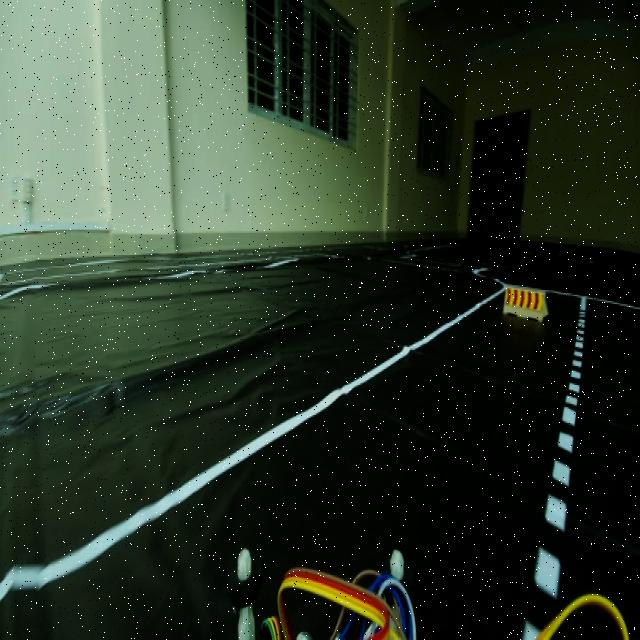roadblock: (500, 280, 550, 324)
